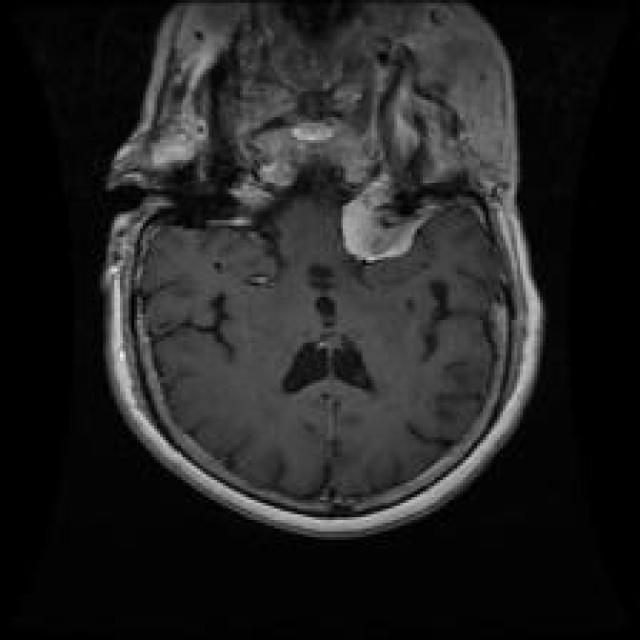meningioma_tumor: (330, 170, 452, 275)
